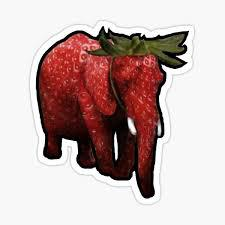strawberry-elephant: (38, 30, 190, 199)
